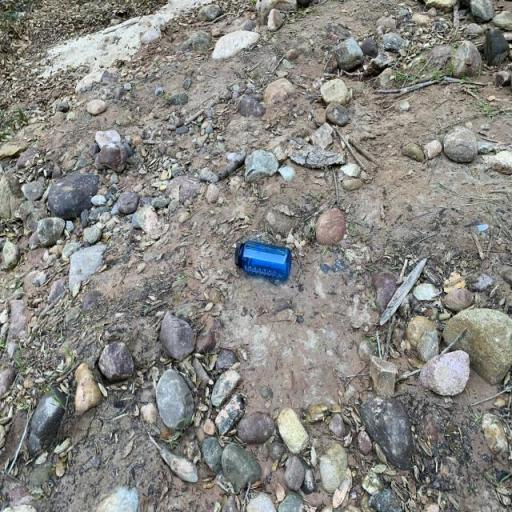bottle: (234, 240, 292, 282)
